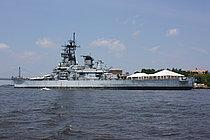MIL_Ship: (10, 34, 195, 89)
